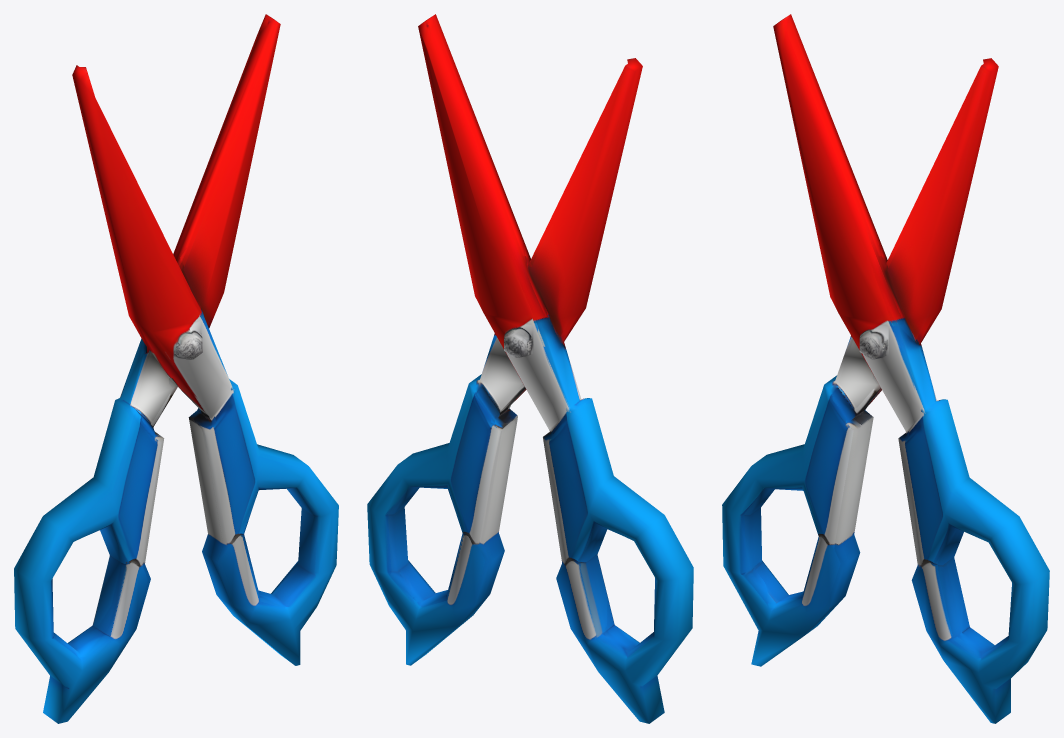
The model's file is scissors.fbx.
The picture shows the model from 3 angles, left to right: view 1: azimuth 30°, elevation 25°; view 2: azimuth 150°, elevation 25°; view 3: azimuth 330°, elevation 25°; orthographic projection.
Parts seen in each view (by area): view 1: mesh_rep_0_ori_repair; view 2: mesh_rep_0_ori_repair; view 3: mesh_rep_0_ori_repair.
Boxes of the visible parts, x1,y1,x2,y2 form: mesh_rep_0_ori_repair: [14, 14, 338, 723]; mesh_rep_0_ori_repair: [367, 14, 693, 723]; mesh_rep_0_ori_repair: [722, 14, 1049, 723].
Size of the model in its own units: 55.82 by 111 by 10.43.
1 material, 1 textured.
